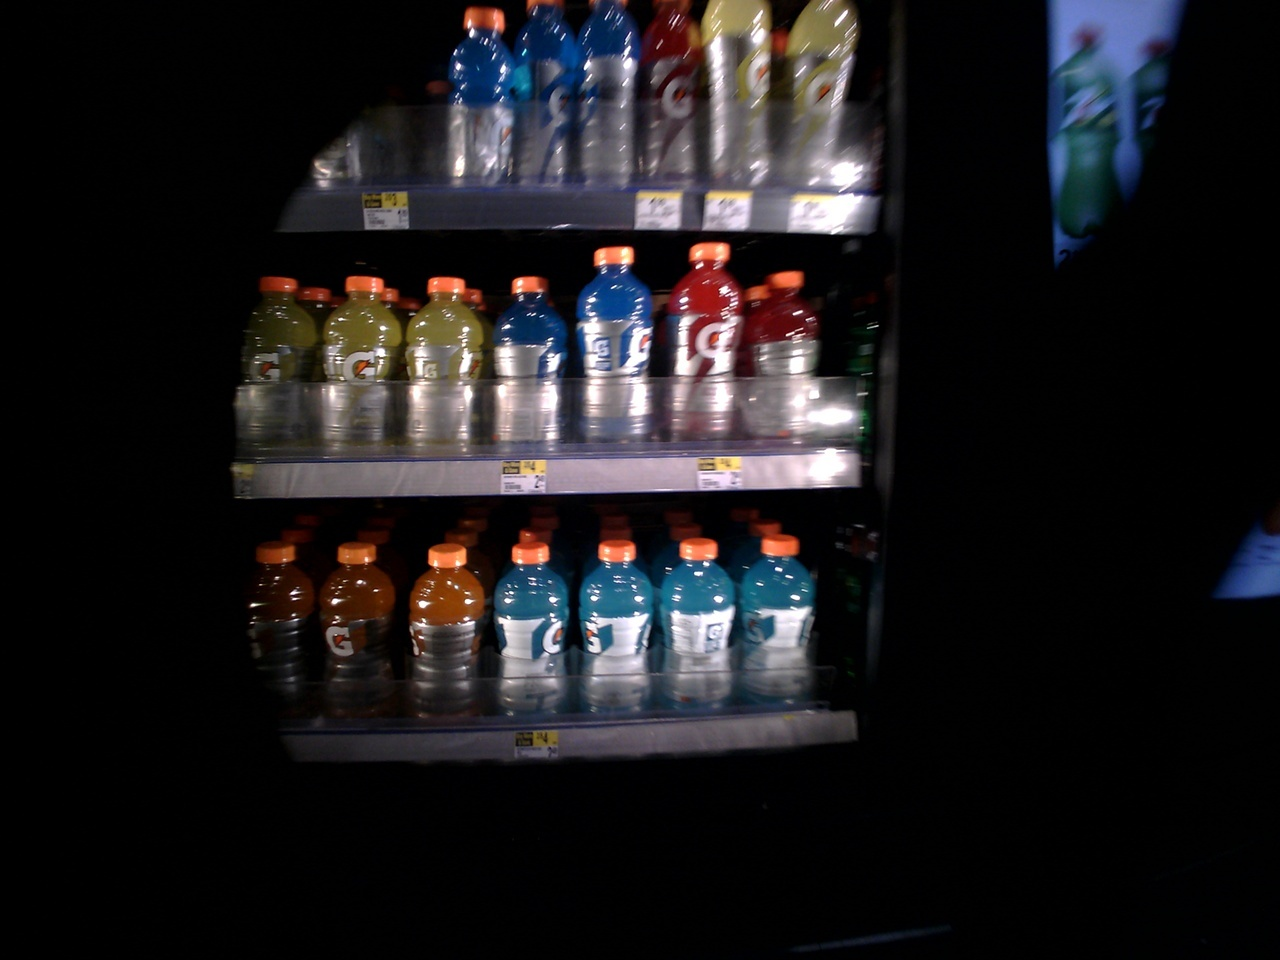shelf: (219, 495, 858, 763), (212, 242, 854, 494), (217, 0, 865, 224)
